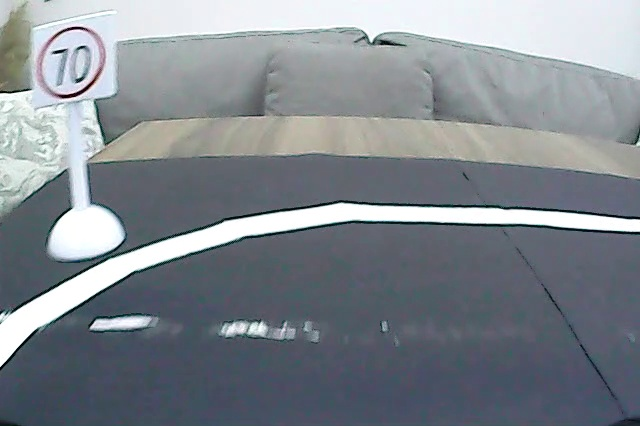speed limit 70: (33, 22, 109, 103)
